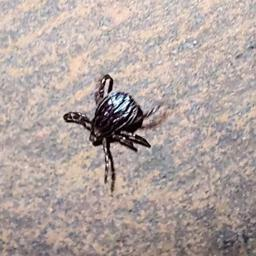Rhipicephalus sanguineus: (62, 71, 150, 185)
